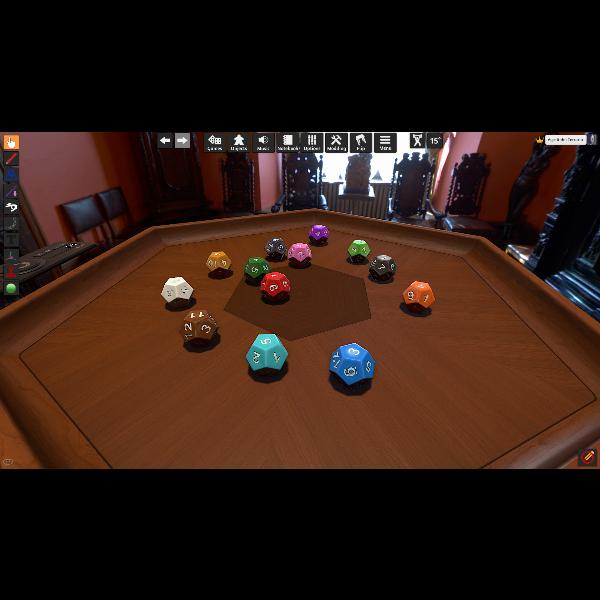d12: (329, 342, 373, 386), (246, 333, 288, 373), (180, 309, 220, 345), (161, 276, 193, 308), (260, 271, 290, 301), (406, 280, 434, 312), (244, 256, 270, 284), (369, 254, 396, 280), (206, 251, 230, 276), (346, 239, 370, 263), (288, 242, 312, 266), (264, 236, 288, 260), (308, 224, 328, 244)
